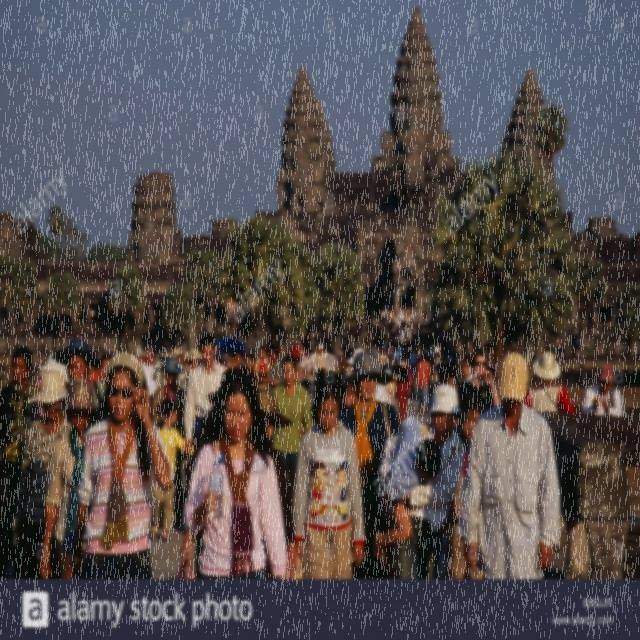pessoa: (456, 352, 562, 580), (74, 351, 171, 581), (187, 376, 289, 579), (184, 368, 274, 580), (338, 350, 406, 580), (336, 348, 400, 580), (298, 381, 366, 580), (38, 378, 102, 581), (14, 370, 71, 580), (407, 383, 465, 580), (371, 414, 443, 565), (258, 388, 297, 580), (271, 352, 314, 516), (149, 399, 196, 541), (149, 356, 187, 526), (185, 332, 228, 456), (334, 301, 426, 345), (53, 337, 106, 407), (523, 350, 577, 416), (457, 347, 502, 416), (228, 348, 250, 452), (582, 364, 624, 418), (460, 352, 493, 416), (152, 341, 184, 389), (392, 350, 412, 424), (90, 352, 114, 408), (460, 396, 486, 444), (37, 350, 72, 384), (259, 343, 285, 387), (416, 350, 432, 416), (127, 344, 149, 392), (140, 346, 160, 398), (381, 353, 398, 406), (141, 348, 159, 396), (314, 343, 329, 400), (288, 343, 306, 388), (338, 374, 358, 410), (406, 343, 419, 398), (254, 344, 271, 384), (174, 346, 188, 392), (442, 358, 459, 392), (336, 345, 354, 377), (308, 344, 320, 390), (432, 346, 446, 384), (216, 344, 236, 367), (302, 338, 312, 384), (185, 348, 202, 371), (86, 351, 100, 378), (374, 380, 391, 402), (172, 342, 186, 368), (326, 346, 339, 372), (376, 344, 394, 362), (245, 353, 256, 382), (277, 342, 288, 366), (149, 342, 160, 365), (390, 345, 403, 363), (292, 338, 304, 351), (446, 347, 456, 359), (356, 345, 376, 351), (304, 351, 310, 368), (424, 344, 432, 356), (323, 342, 329, 354), (248, 347, 257, 352)
